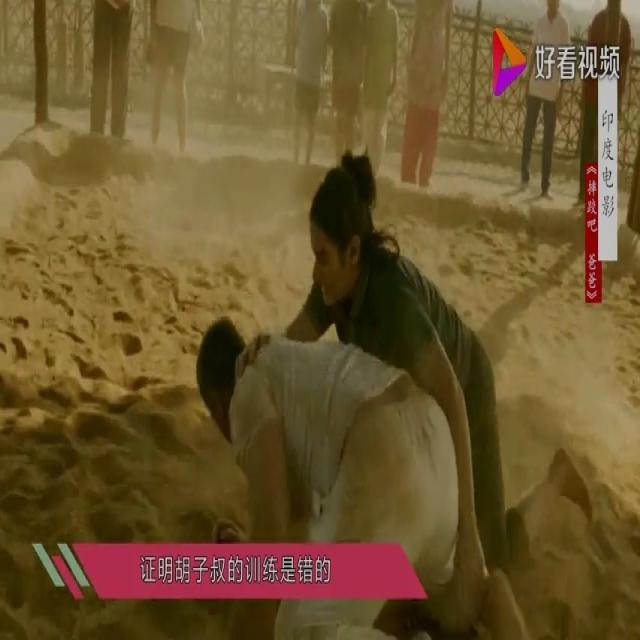fight: (196, 130, 593, 640)
non-fight: (515, 0, 572, 199)
